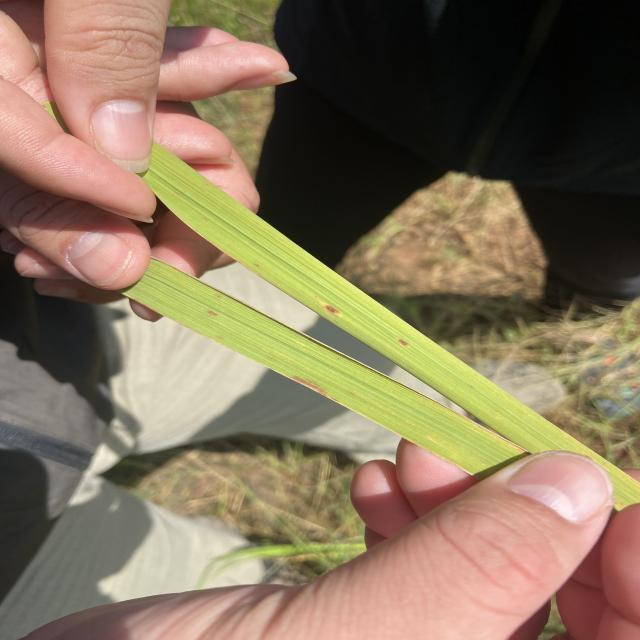Dom nau: (325, 305, 340, 314), (398, 339, 408, 346), (207, 311, 218, 316), (254, 264, 259, 267)
